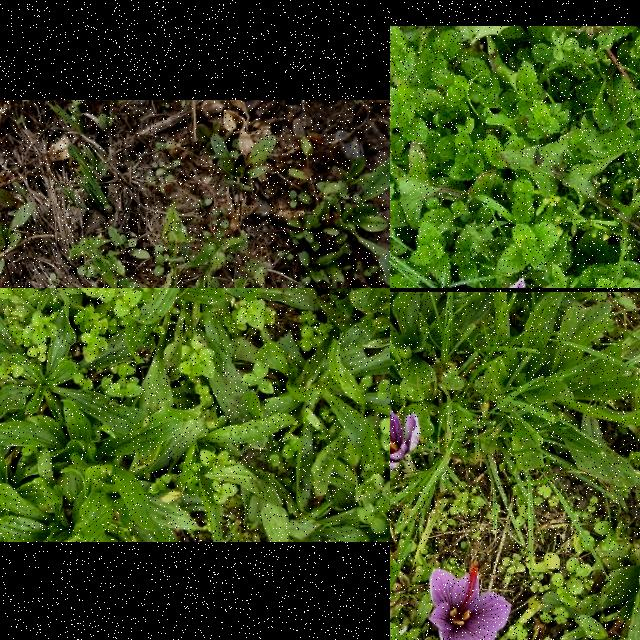flower: (429, 563, 512, 640), (390, 403, 420, 471)
